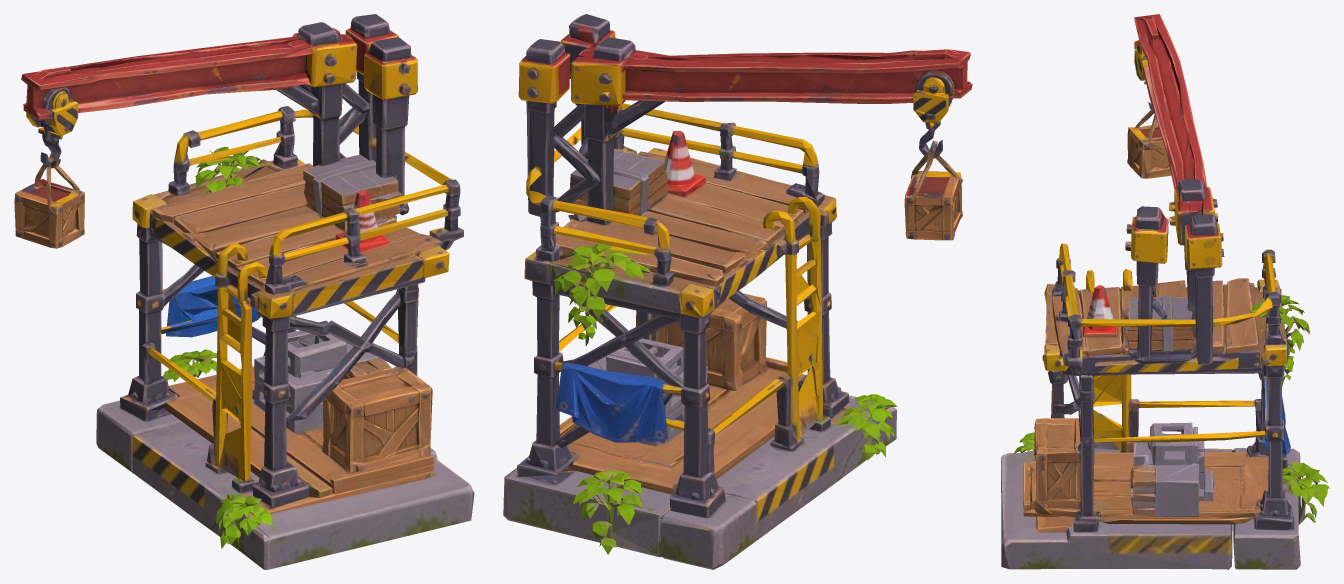
The model's file is cargo_crane_tower.glb.
The picture shows the model from 3 angles, left to right: view 1: azimuth 30°, elevation 25°; view 2: azimuth 150°, elevation 25°; view 3: azimuth 270°, elevation 25°; orthographic projection. The views are drawn at different scales.
Visible parts, largest first — view 1: output_unwrapped; view 2: output_unwrapped; view 3: output_unwrapped.
Boxes of the visible parts, left/top/right/bottom form: output_unwrapped: left=14, top=14, right=474, bottom=569; output_unwrapped: left=503, top=14, right=972, bottom=569; output_unwrapped: left=1001, top=14, right=1329, bottom=569.
Size of what is drawn, in the model's own units: 0.8734 by 1 by 0.7304.
Materials: 1 (1 with a texture image).
